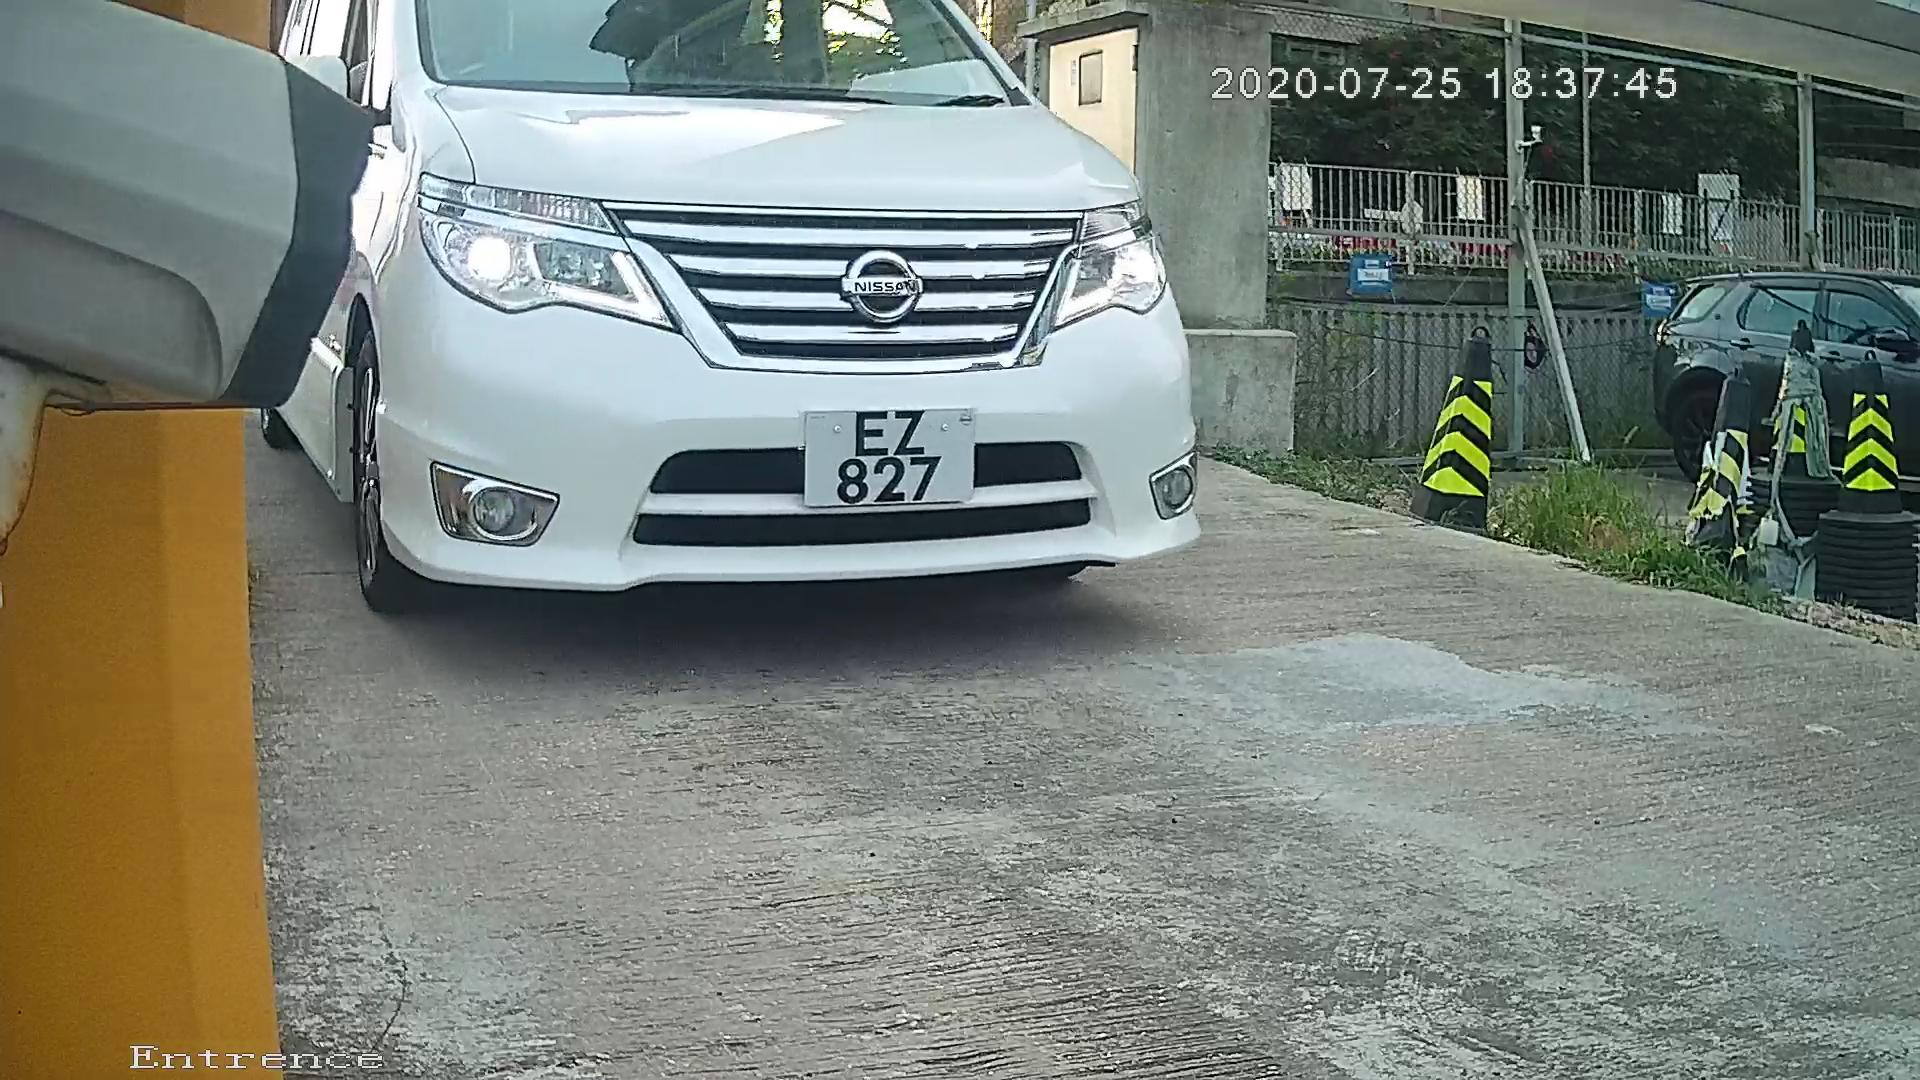Car: (155, 1, 1295, 647)
License Plate: (781, 396, 986, 521)
